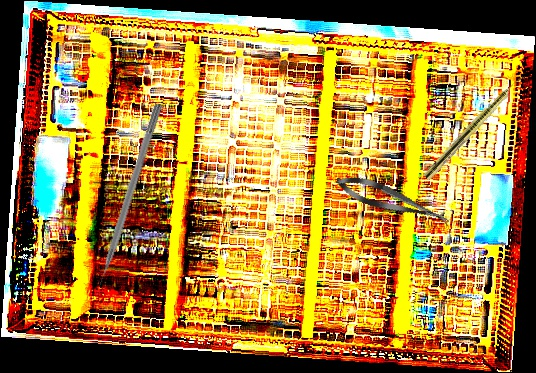Handpiece: (422, 70, 528, 183)
Micro Scissor: (332, 169, 454, 233)
Pusher: (89, 102, 164, 299)
